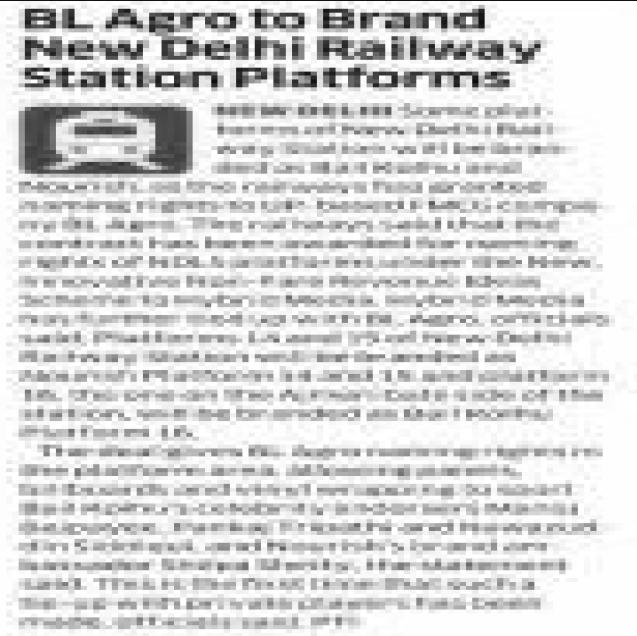paper: (0, 1, 637, 635)
